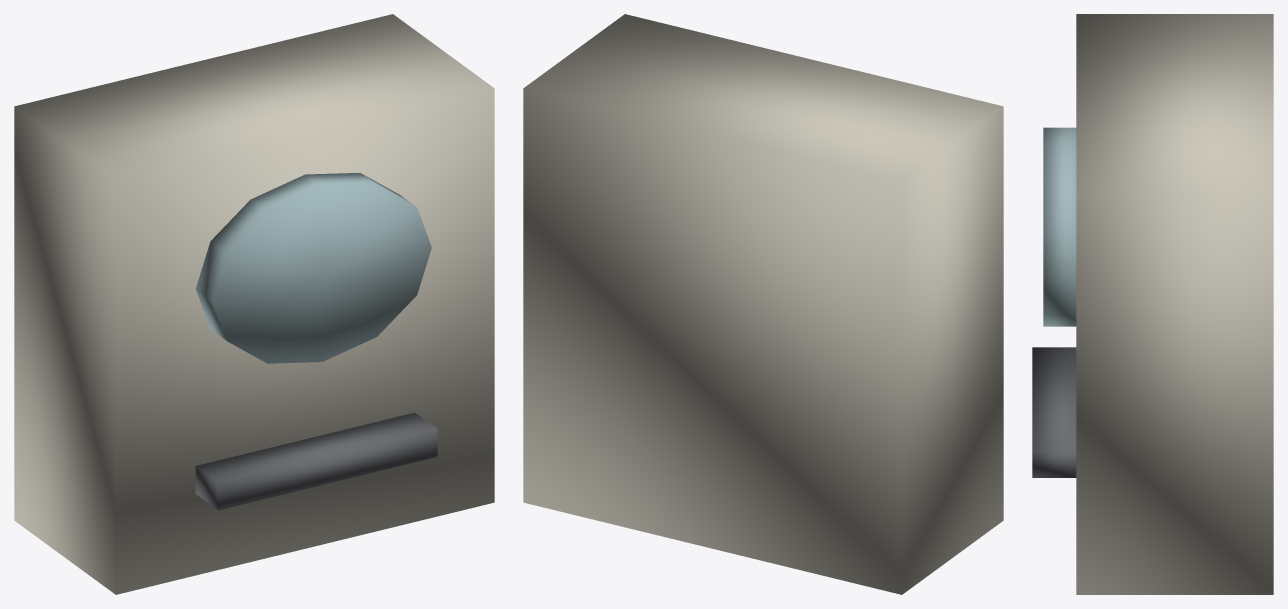
The model's file is timecard_rack__squat.glb.
3 renders of one model, left to right at view 1: azimuth 30°, elevation 25°; view 2: azimuth 150°, elevation 25°; view 3: azimuth 270°, elevation 25°, orthographic. The views are drawn at different scales.
Parts seen in each view (by area): view 1: world; view 2: world; view 3: world.
Boxes of the visible parts, bbox=[...] form: world: bbox=[14, 14, 494, 594]; world: bbox=[523, 14, 1003, 594]; world: bbox=[1032, 14, 1273, 594].
Bounding box in the file's own units: 0.418 × 0.4368 × 0.2376.
